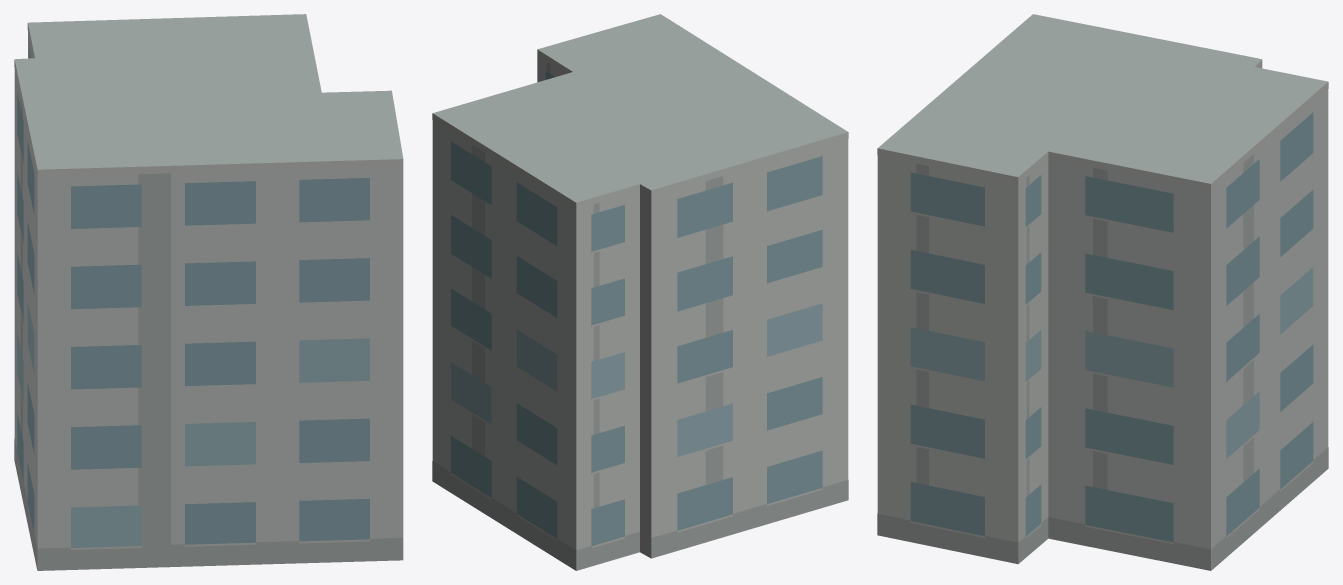
Rendered from survey-upis-32532852.glb.
3 views of the same model, side by side, from view 1: azimuth 30°, elevation 25°; view 2: azimuth 150°, elevation 25°; view 3: azimuth 270°, elevation 25° (orthographic). The views are drawn at different scales.
Parts seen in each view (by area): view 1: survey-upis-32532852.tmp; view 2: survey-upis-32532852.tmp; view 3: survey-upis-32532852.tmp.
Part boxes in pixels (left/top/right/bottom): survey-upis-32532852.tmp: left=14, top=14, right=403, bottom=570; survey-upis-32532852.tmp: left=432, top=14, right=848, bottom=570; survey-upis-32532852.tmp: left=877, top=14, right=1328, bottom=570.
Bounding box in the file's own units: 12.34 × 13.1 × 13.84.
